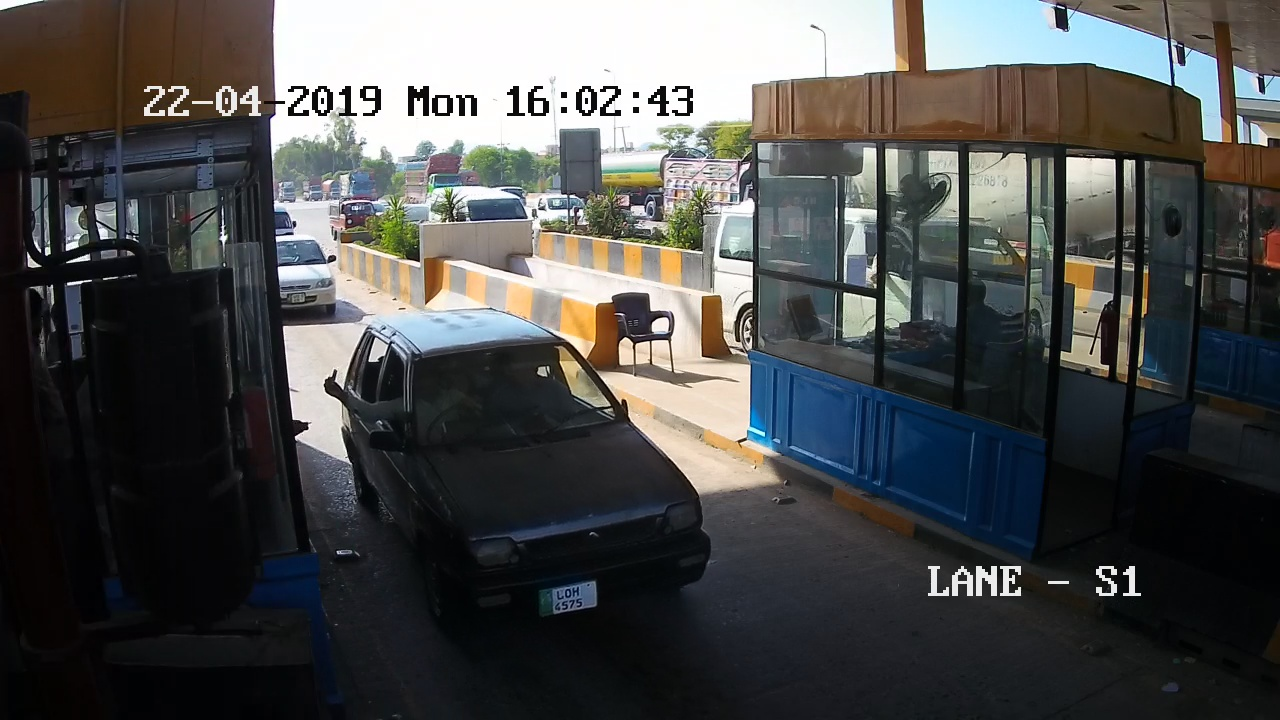car: (353, 311, 716, 639), (277, 237, 338, 317)
